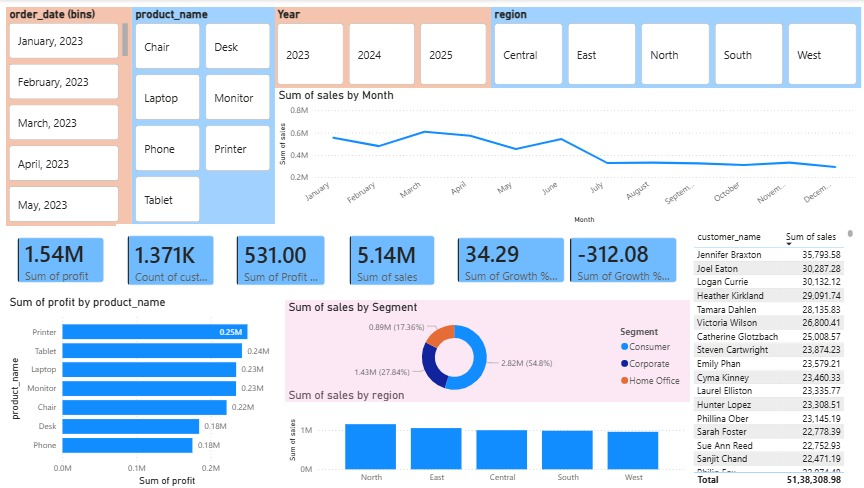

This screenshot's page, from the dashboard's own definition file:
{"tool":"powerbi","page":{"name":"Page 1","canvas":[1280,720],"ordinal":0},"visuals":[{"type":"advancedSlicerVisual","fields":{"Values":["Task3_PartB_RawData.order_date.Variation.Date Hierarchy.Year"]},"box":[404.8,11.8,319.2,119.3],"z":0},{"type":"advancedSlicerVisual","fields":{"Values":["Task3_PartB_RawData.order_date (bins)"]},"box":[11.8,11.8,184.8,322.5],"z":1000},{"type":"advancedSlicerVisual","fields":{"Values":["Task3_PartB_RawData.region"]},"box":[724,11.8,544.3,119.3],"z":2000},{"type":"advancedSlicerVisual","fields":{"Values":["Task3_PartB_RawData.product_name"]},"box":[196.5,11.8,210,322.5],"z":3000},{"type":"lineChart","fields":{"Category":["Task3_PartB_RawData.order_date.Variation.Date Hierarchy.Month"],"Y":["Sum(Task3_PartB_RawData.sales)"]},"box":[406.5,131,855,203.3],"z":4000},{"type":"cardVisual","fields":{"Data":["Sum(Task3_PartB_RawData.sales)"]},"box":[498.9,330.9,159.6,107.5],"z":5000},{"type":"cardVisual","fields":{"Data":["Sum(Task3_PartB_RawData.profit)"]},"box":[11.8,334.3,161.3,100.8],"z":6000},{"type":"cardVisual","fields":{"Data":["Sum(Task3_PartB_RawData.Profit Margin )"]},"box":[334.3,330.9,164.6,107.5],"z":7001},{"type":"cardVisual","fields":{"Data":["Count(Task3_PartB_RawData.customer_id)"]},"box":[173,330.9,161.3,107.5],"z":7002},{"type":"cardVisual","fields":{"Data":["Sum(Table6.Growth % (2023-24))","Sum(Table6.Growth %(2024-25))"]},"box":[658.5,334.3,357.8,100.8],"z":7003},{"type":"columnChart","fields":{"Category":["Task3_PartB_RawData.region"],"Y":["Sum(Task3_PartB_RawData.sales)"]},"box":[421.6,571.1,594.6,149.5],"z":7004},{"type":"clusteredBarChart","fields":{"Category":["Task3_PartB_RawData.product_name"],"Y":["Sum(Task3_PartB_RawData.profit)"]},"box":[11.8,435.1,409.9,285.6],"z":7005},{"type":"donutChart","fields":{"Category":["Task3_PartB_RawData.Segment"],"Y":["Sum(Task3_PartB_RawData.sales)"]},"box":[421.6,441.8,594.6,149.5],"z":7006},{"type":"tableEx","fields":{"Values":["Task3_PartB_RawData.customer_name","Sum(Task3_PartB_RawData.sales)"]},"box":[1016.3,334.3,245.2,386.4],"z":7007}]}

Visuals, with their boxes in screenshot pixels (x1, y1, x2, y2), scaled from the page's 1280x720 canvas onto the 864x488 screenshot:
advancedSlicerVisual - Task3_PartB_RawData.order_date.Variation.Date Hierarchy.Year: 273/8/489/89
advancedSlicerVisual - Task3_PartB_RawData.order_date (bins): 8/8/133/227
advancedSlicerVisual - Task3_PartB_RawData.region: 489/8/856/89
advancedSlicerVisual - Task3_PartB_RawData.product_name: 133/8/274/227
lineChart - Task3_PartB_RawData.order_date.Variation.Date Hierarchy.Month x Sum(Task3_PartB_RawData.sales): 274/89/852/227
cardVisual - Sum(Task3_PartB_RawData.sales): 337/224/444/297
cardVisual - Sum(Task3_PartB_RawData.profit): 8/227/117/295
cardVisual - Sum(Task3_PartB_RawData.Profit Margin ): 226/224/337/297
cardVisual - Count(Task3_PartB_RawData.customer_id): 117/224/226/297
cardVisual - Sum(Table6.Growth % (2023-24)) x Sum(Table6.Growth %(2024-25)): 444/227/686/295
columnChart - Task3_PartB_RawData.region x Sum(Task3_PartB_RawData.sales): 285/387/686/487
clusteredBarChart - Task3_PartB_RawData.product_name x Sum(Task3_PartB_RawData.profit): 8/295/285/487
donutChart - Task3_PartB_RawData.Segment x Sum(Task3_PartB_RawData.sales): 285/299/686/401
tableEx - Task3_PartB_RawData.customer_name x Sum(Task3_PartB_RawData.sales): 686/227/852/487
